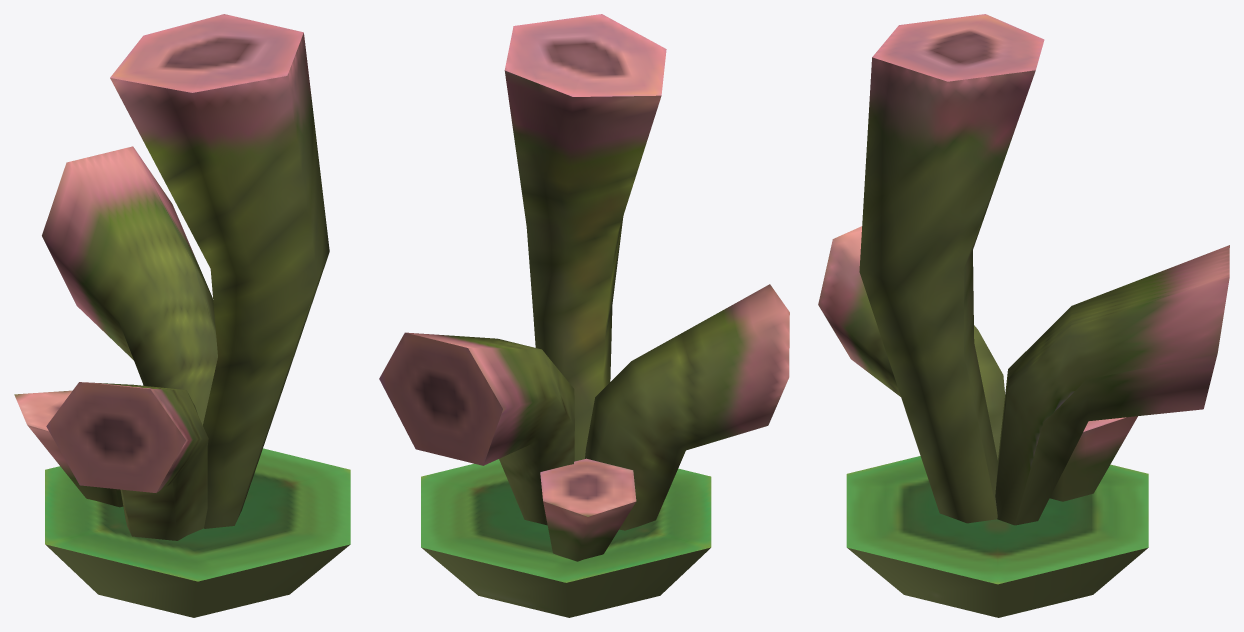
File: fb_lianhuachi_lianou.FBX
3 renders of one model, left to right at view 1: azimuth 30°, elevation 25°; view 2: azimuth 150°, elevation 25°; view 3: azimuth 270°, elevation 25°, orthographic. The views are drawn at different scales.
Visible parts, largest first — view 1: Object06, Object17; view 2: Object06, Object17; view 3: Object06, Object17.
Part boxes in pixels (bbox=[...]): Object06: bbox=[14, 14, 329, 540]; Object17: bbox=[45, 448, 350, 617]; Object06: bbox=[379, 14, 789, 561]; Object17: bbox=[421, 459, 711, 617]; Object06: bbox=[818, 14, 1229, 525]; Object17: bbox=[846, 456, 1148, 617].
Size of the model in its own units: 6.87 by 10.19 by 7.16.
